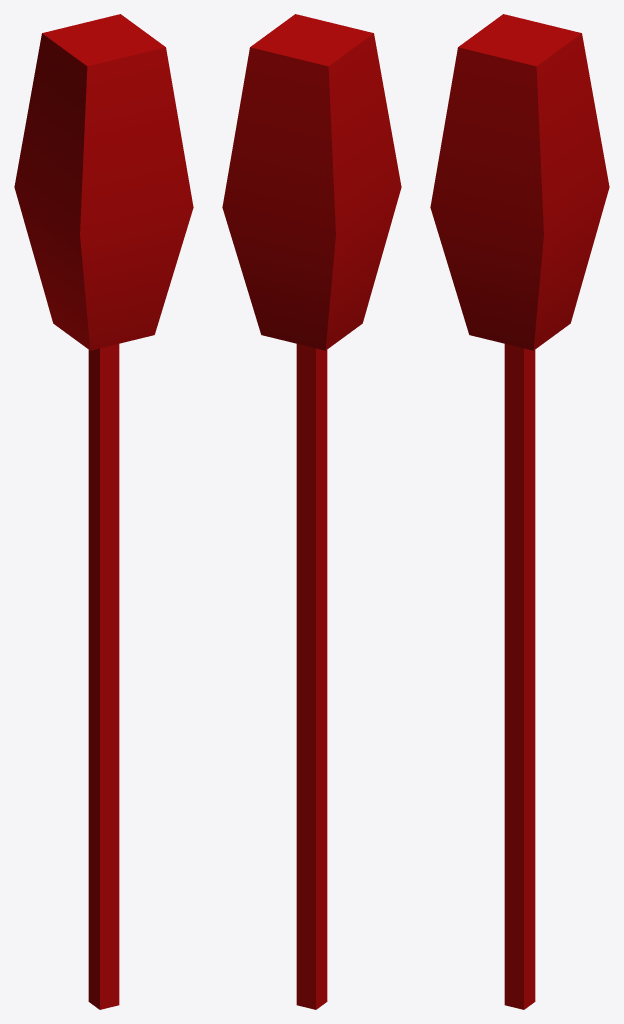
Rendered from SM_Prop_Tiki_Torch_01_Collision.gltf.
3 views of the same model, side by side, from view 1: azimuth 30°, elevation 25°; view 2: azimuth 150°, elevation 25°; view 3: azimuth 330°, elevation 25° (orthographic).
Visible parts, largest first — view 1: SM_Prop_Tiki_Torch_01_Collision; view 2: SM_Prop_Tiki_Torch_01_Collision; view 3: SM_Prop_Tiki_Torch_01_Collision.
Boxes of the visible parts, x1,y1,x2,y2 form: SM_Prop_Tiki_Torch_01_Collision: (14,14,193,1009); SM_Prop_Tiki_Torch_01_Collision: (222,14,401,1009); SM_Prop_Tiki_Torch_01_Collision: (430,14,609,1009).
Bounding box in the file's own units: 0.2737 × 2.22 × 0.2737.
